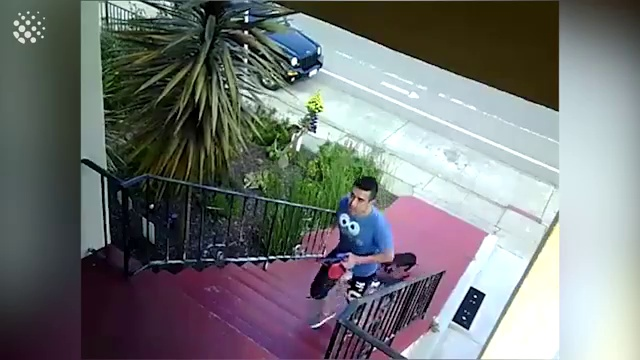face: (348, 190, 372, 214)
